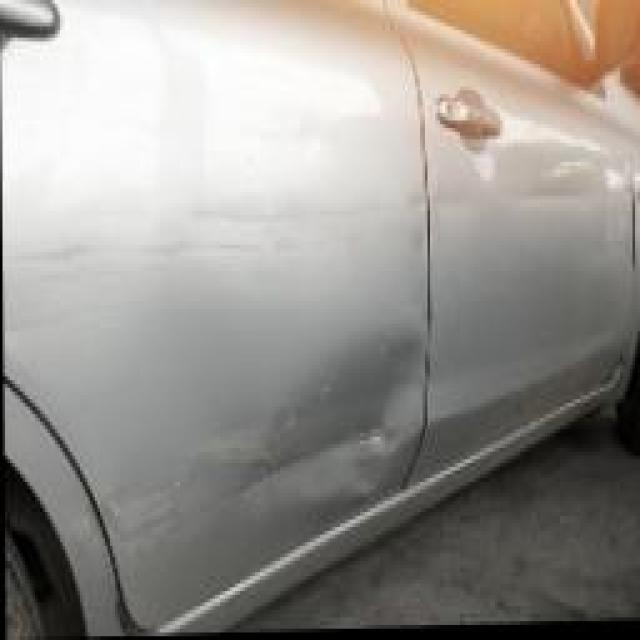Door: (299, 313, 430, 543)
